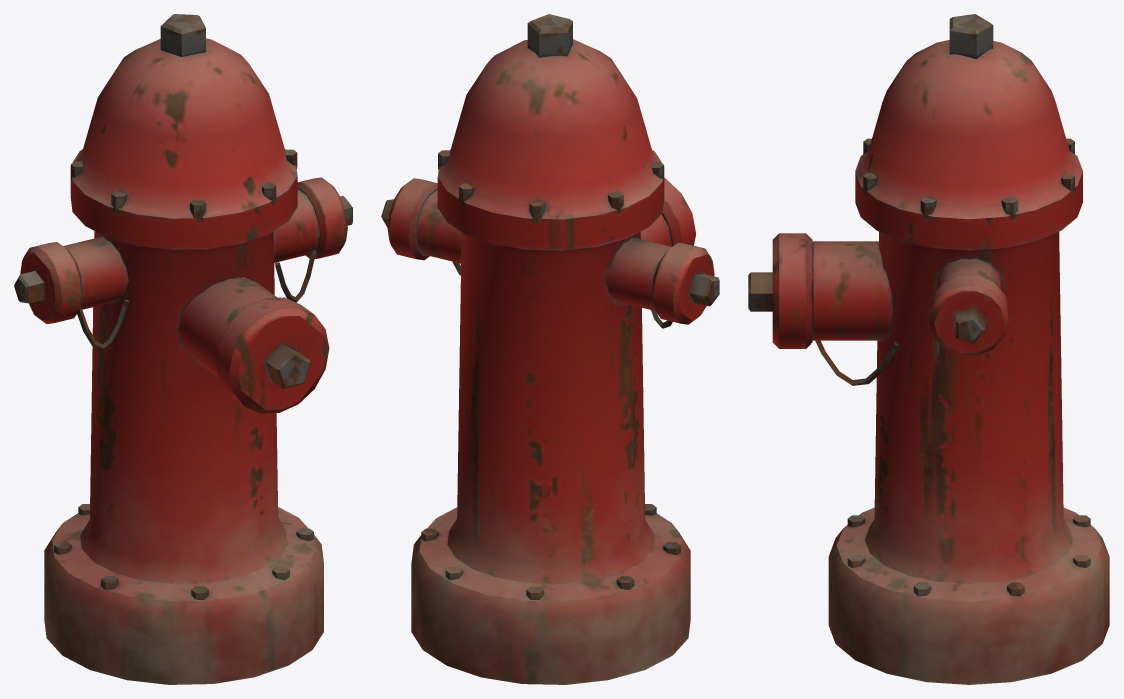
Rendered from hydrant-low.glb.
3 renders of one model, left to right at view 1: azimuth 30°, elevation 25°; view 2: azimuth 150°, elevation 25°; view 3: azimuth 270°, elevation 25°, orthographic.
Parts seen in each view (by area): view 1: hydrant; view 2: hydrant; view 3: hydrant.
Part boxes in pixels (x1=…): hydrant: x1=14, y1=14, x2=352, y2=684; hydrant: x1=381, y1=14, x2=719, y2=684; hydrant: x1=748, y1=14, x2=1109, y2=684.
Size of the model in its own units: 0.47 by 0.83 by 0.45.
Materials: 1 (1 with a texture image).
